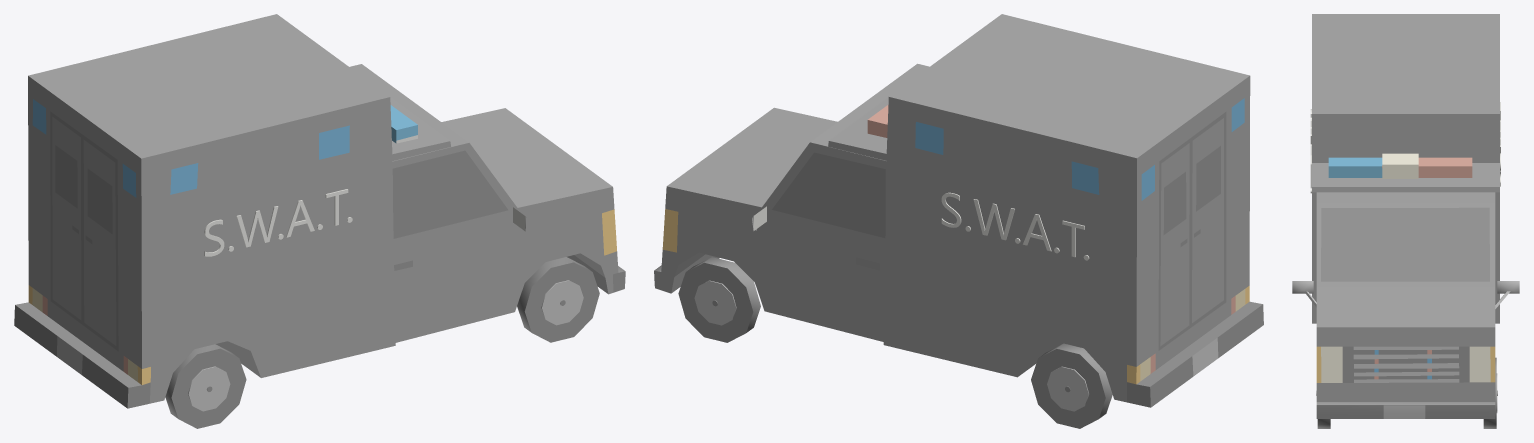
Rendered from truck7.fbx.
3 views of the same model, side by side, from view 1: azimuth 30°, elevation 25°; view 2: azimuth 150°, elevation 25°; view 3: azimuth 270°, elevation 25° (orthographic). The views are drawn at different scales.
Visible parts, largest first — view 1: Extrude, Cylinder_6, Cylinder_9; view 2: Extrude, Cylinder_7, Cylinder_8; view 3: Extrude, Cylinder_7.
Boxes of the visible parts, x1,y1,x2,y2 form: Extrude: (14, 14, 625, 408); Cylinder_6: (517, 257, 599, 342); Cylinder_9: (165, 344, 246, 428); Extrude: (654, 14, 1263, 407); Cylinder_7: (678, 257, 760, 342); Cylinder_8: (1031, 343, 1112, 428); Extrude: (1292, 14, 1519, 418); Cylinder_7: (1483, 357, 1497, 428).
Bounding box in the file's own units: 510 × 281 × 242.
